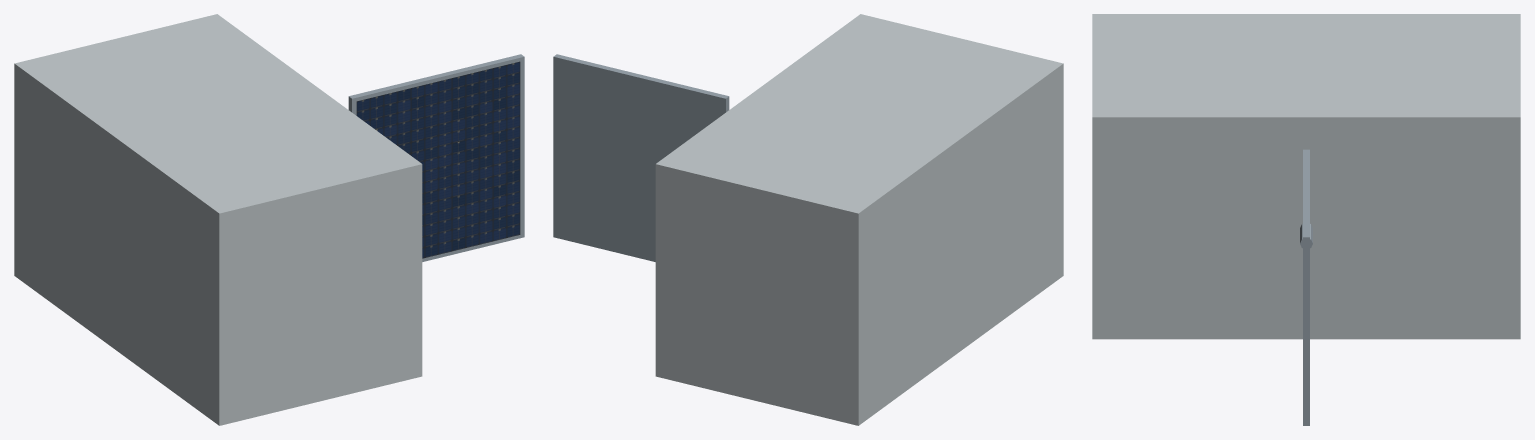
The model's file is ref-spot-4-25977.glb.
3 views of the same model, side by side, from view 1: azimuth 30°, elevation 25°; view 2: azimuth 150°, elevation 25°; view 3: azimuth 270°, elevation 25° (orthographic). The views are drawn at different scales.
Parts seen in each view (by area): view 1: Spacecraft body, Photovoltaic laminates, Array frame; view 2: Spacecraft body, Array frame; view 3: Spacecraft body, Array frame.
Boxes of the visible parts, x1,y1,x2,y2 form: Spacecraft body: (14,14,422,425); Photovoltaic laminates: (356,61,520,258); Array frame: (348,54,524,261); Spacecraft body: (655,14,1063,425); Array frame: (553,54,729,261); Spacecraft body: (1092,14,1520,339); Array frame: (1303,149,1309,425).
Size of the model in its own units: 4 by 2 by 3.5.
3 materials, 1 textured.
